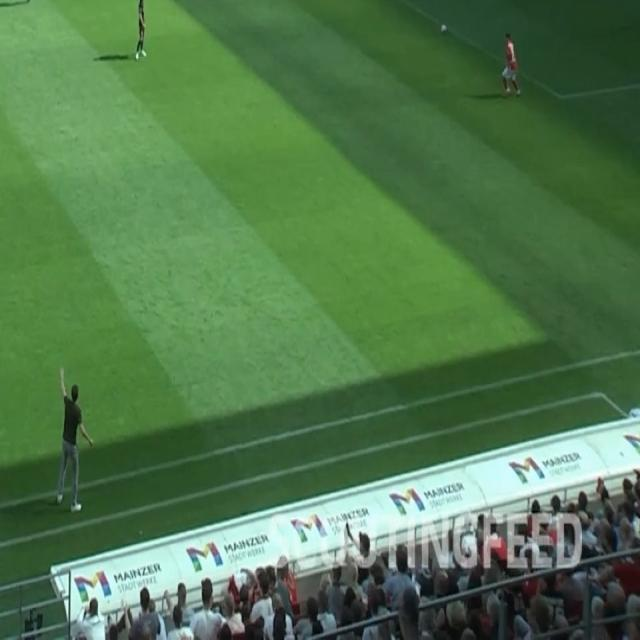ball: (441, 23, 446, 34)
